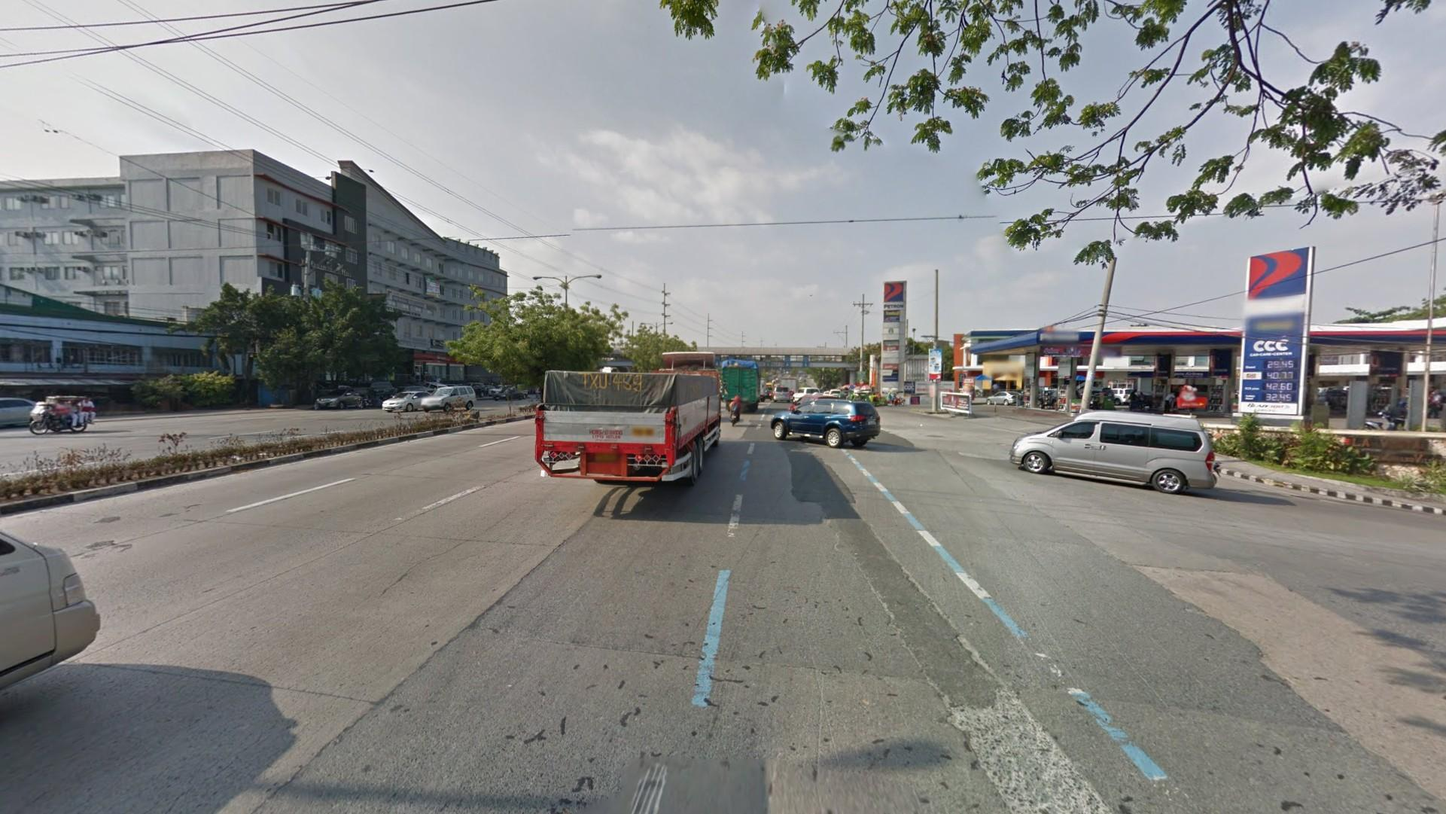pedestrian: (1428, 386, 1446, 422), (1162, 390, 1178, 415), (1128, 387, 1139, 413), (1103, 384, 1113, 407), (991, 381, 1000, 398), (435, 375, 440, 386)
